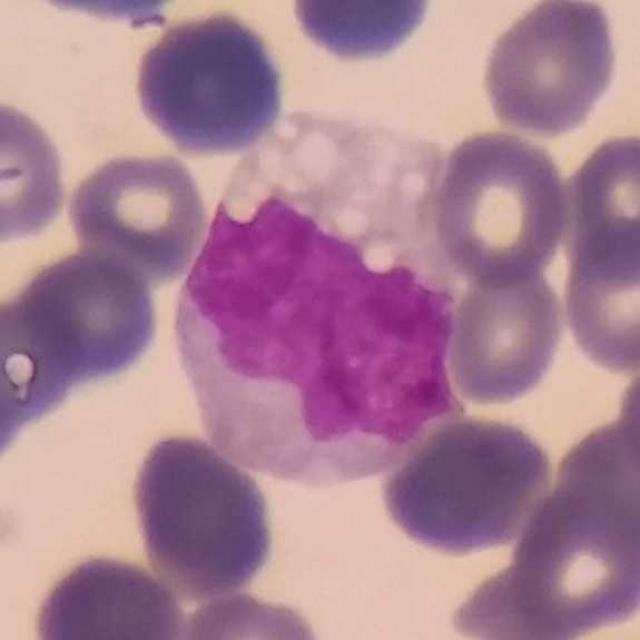Monocyte: (165, 113, 466, 488)
RBC: (374, 409, 559, 560), (124, 426, 280, 600), (128, 5, 292, 159), (426, 126, 574, 288), (8, 246, 165, 397), (504, 473, 639, 640), (476, 0, 624, 139), (0, 272, 97, 480), (441, 257, 570, 410), (62, 146, 210, 274), (26, 547, 189, 640), (440, 556, 606, 639), (551, 412, 640, 560), (557, 220, 640, 377), (557, 126, 640, 278), (0, 92, 72, 249), (284, 0, 442, 69), (168, 587, 331, 640), (40, 0, 172, 37), (615, 351, 640, 496)
